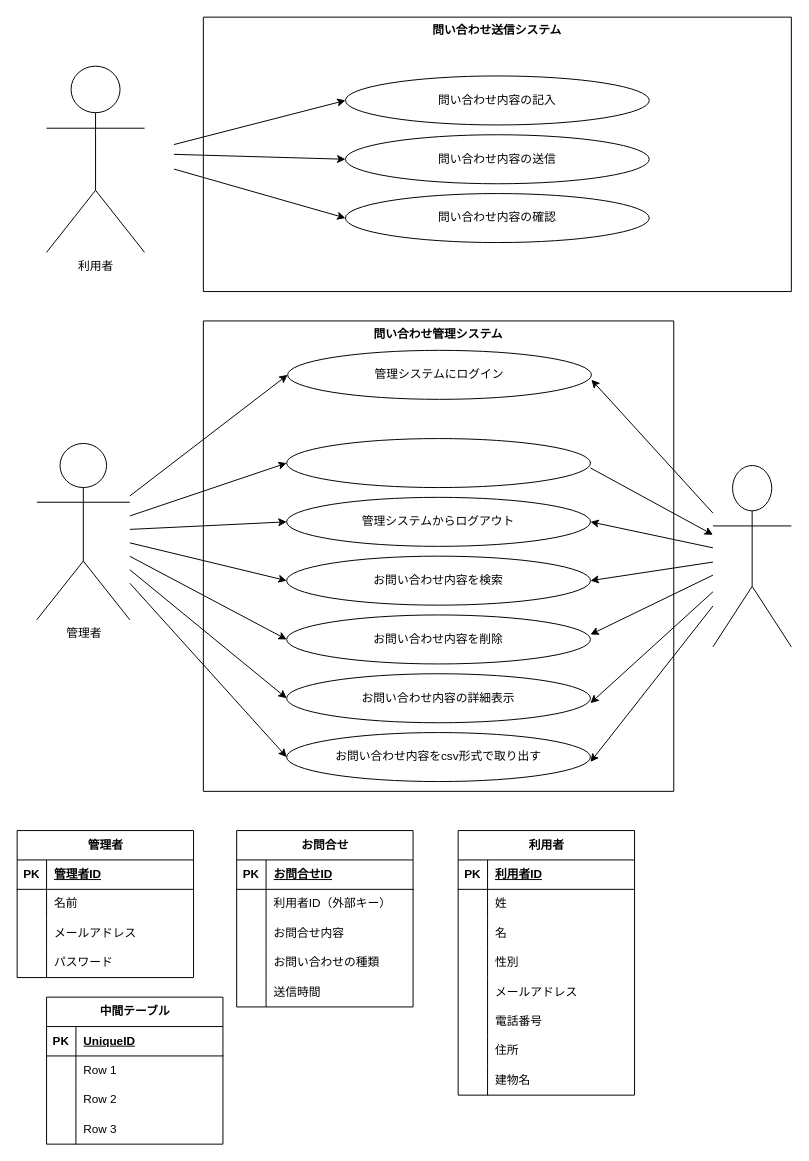
The diagram is 809 pixels wide and 1161 high, and some of its shapes have lost their labels. Each missing label, with the centre of its shape:
"新規ユーザーの作成・登録" belongs at (438,463).
"新規管理者" belongs at (751,556).
